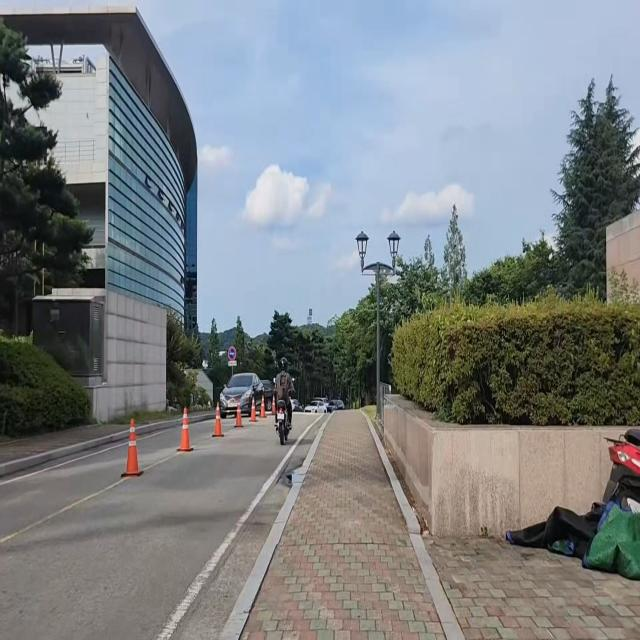obstacle: (352, 218, 405, 431), (600, 418, 640, 579), (270, 350, 300, 449), (216, 366, 268, 416), (119, 413, 148, 483)
road: (0, 413, 325, 640)
sidewalk: (222, 412, 640, 640), (0, 418, 138, 479)
